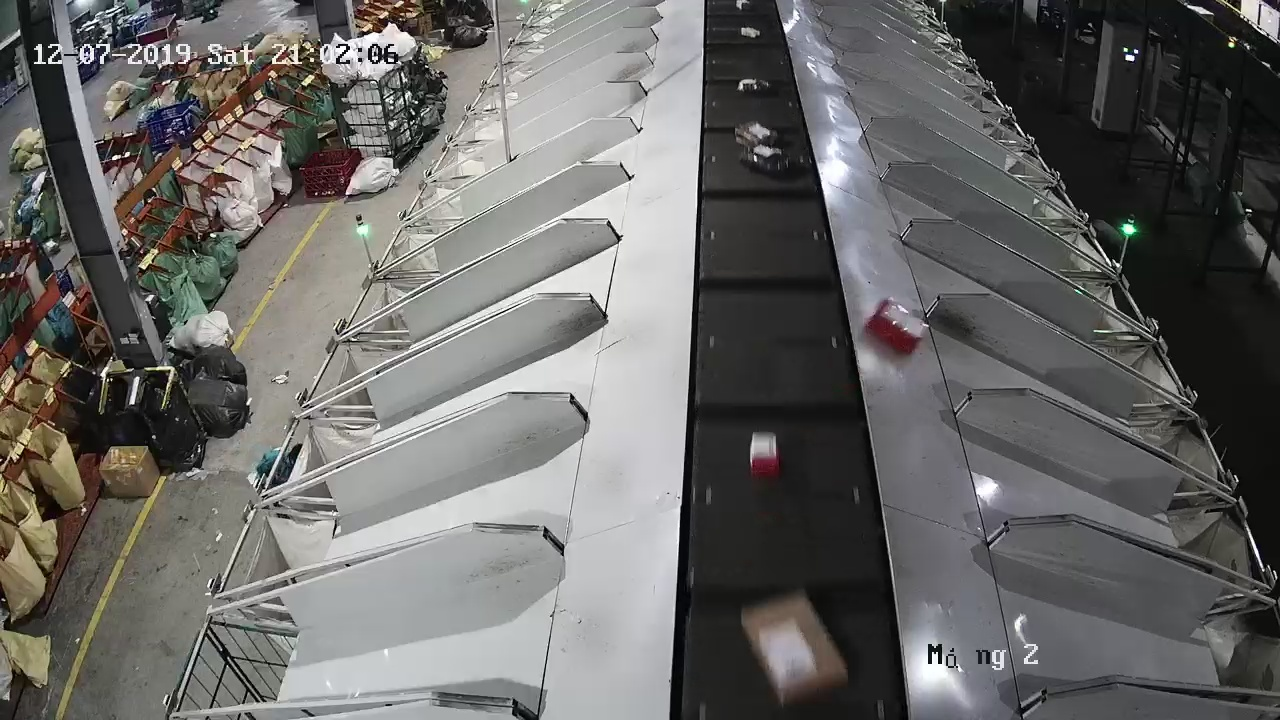parcel: (865, 297, 925, 355)
